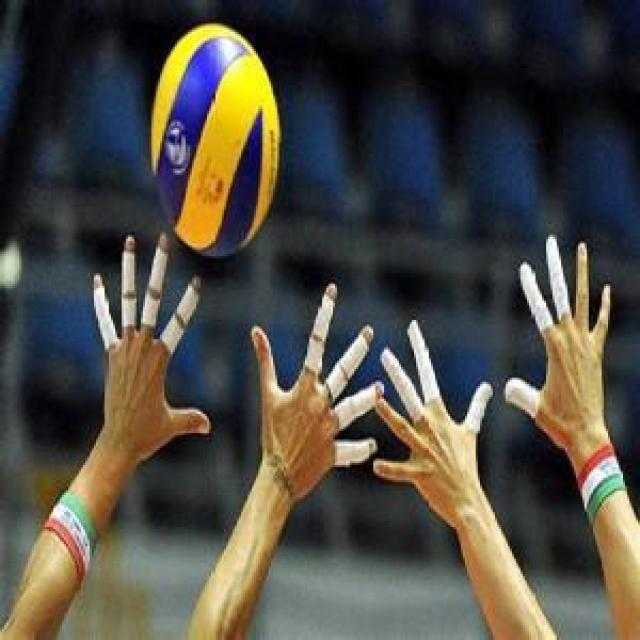volleyball: (150, 22, 280, 257)
